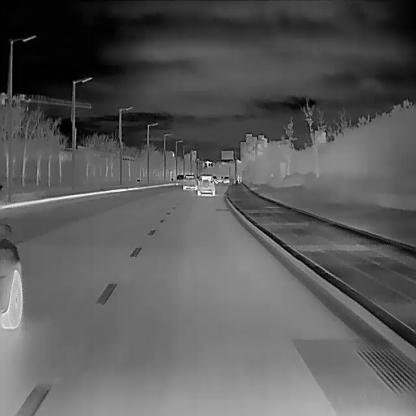car: (0, 220, 23, 329), (197, 174, 214, 196), (183, 173, 196, 189), (175, 173, 183, 185), (223, 176, 229, 182), (212, 175, 216, 181)
